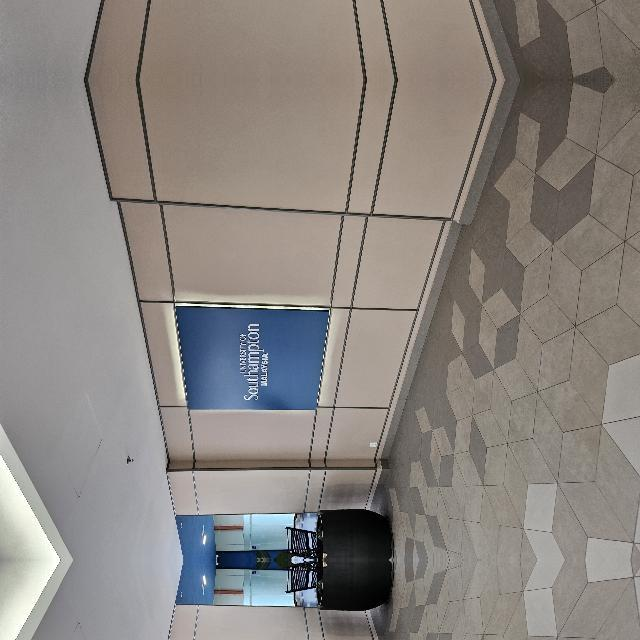obstacle: (0, 368, 56, 482), (0, 638, 56, 640)
